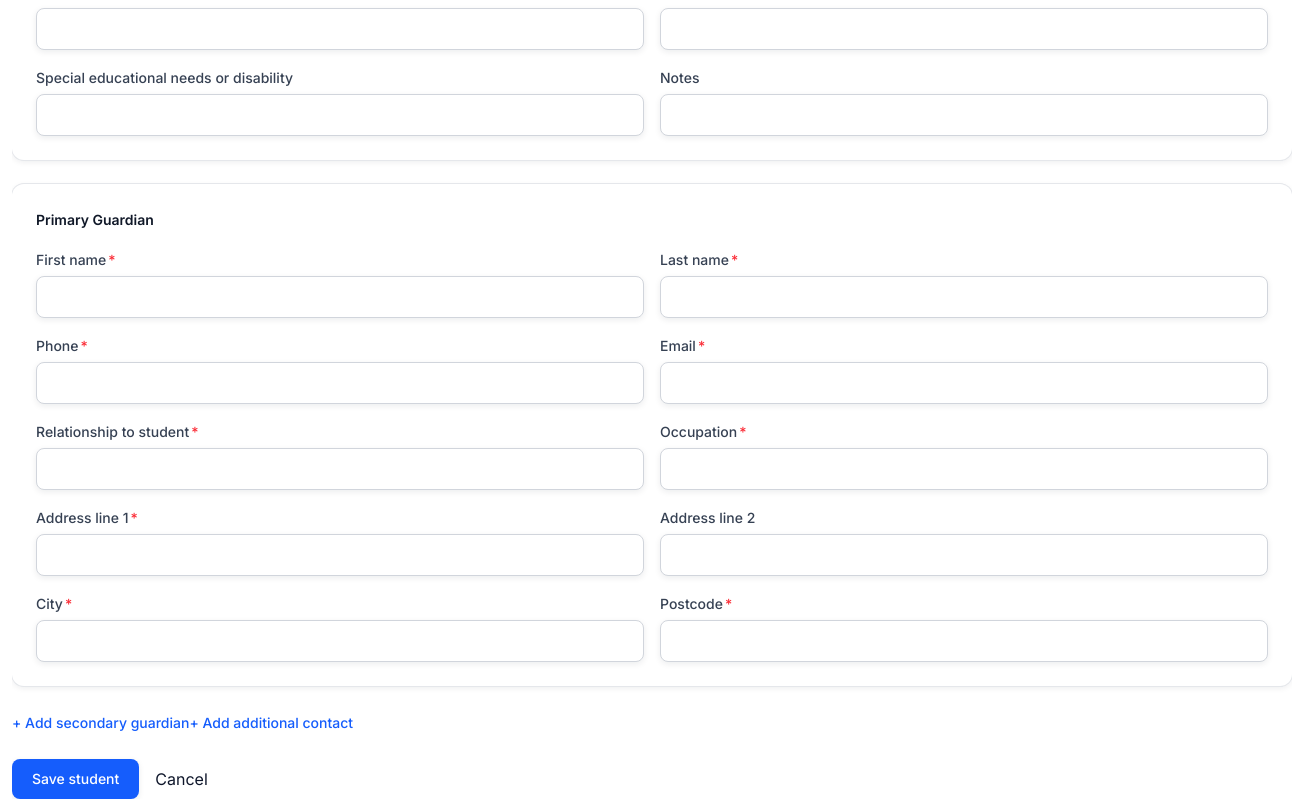
Scenario: StudentForm without initial (new student) › offers the second contact only after the first
The image size is (1292, 799).
(page scrolled)
Expected: the text "Additional Contact 1" is not shown
Expected: the text "+ Add second additional contact" is not shown
Click the button "+ Add additional contact".
click(271, 723)  # box 189,711 -> 353,735
(page scrolled)
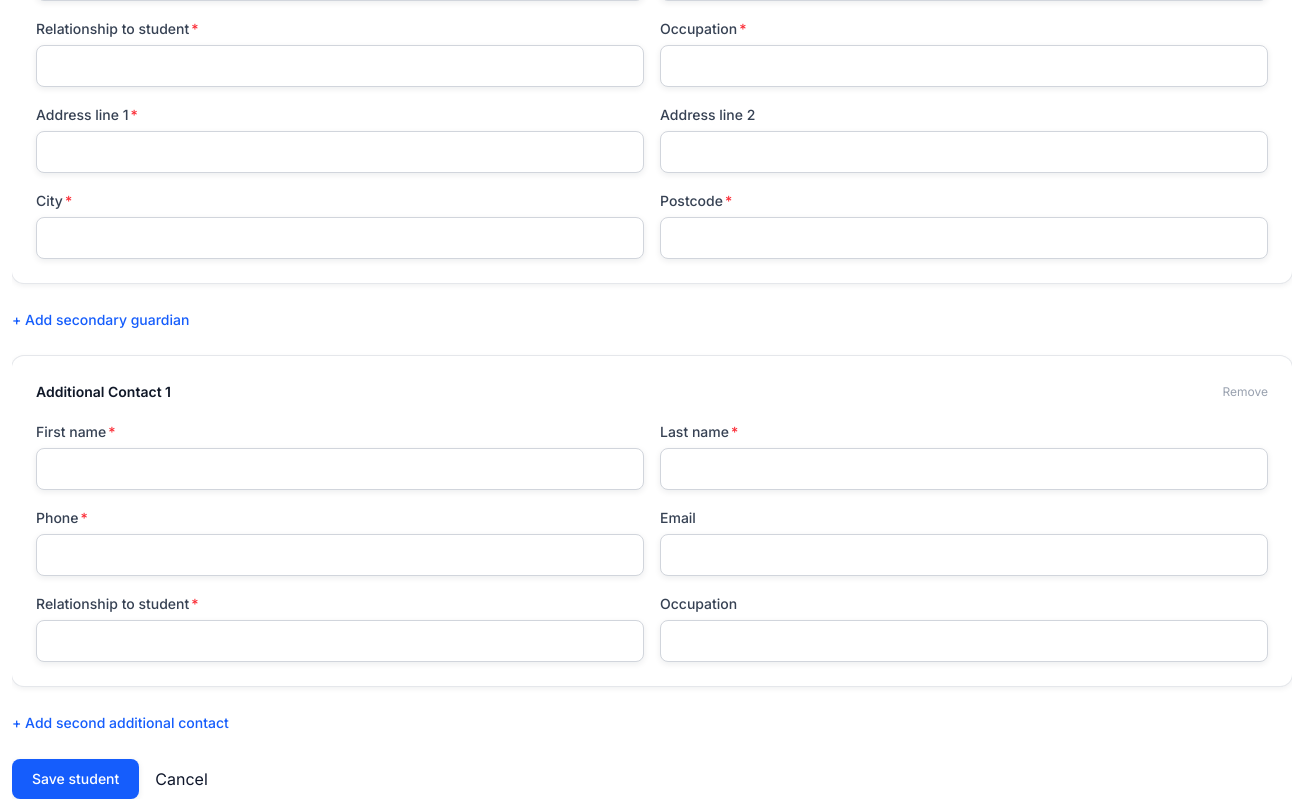
Expected: the heading "Additional Contact 1" is shown, 36,380 -> 171,404
Click the button "+ Add second additional contact".
click(120, 723)  # box 12,711 -> 229,735
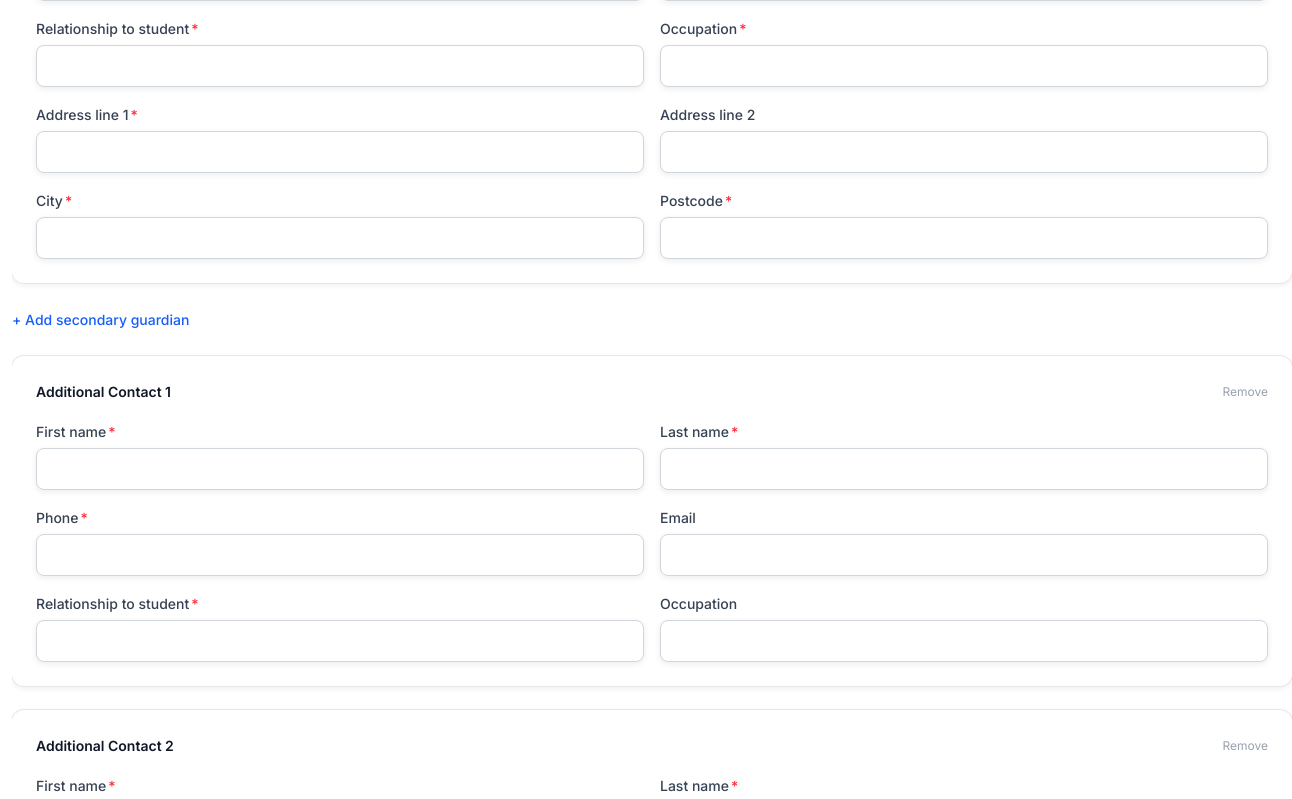
Expected: the heading "Additional Contact 2" is shown, 36,734 -> 174,758
